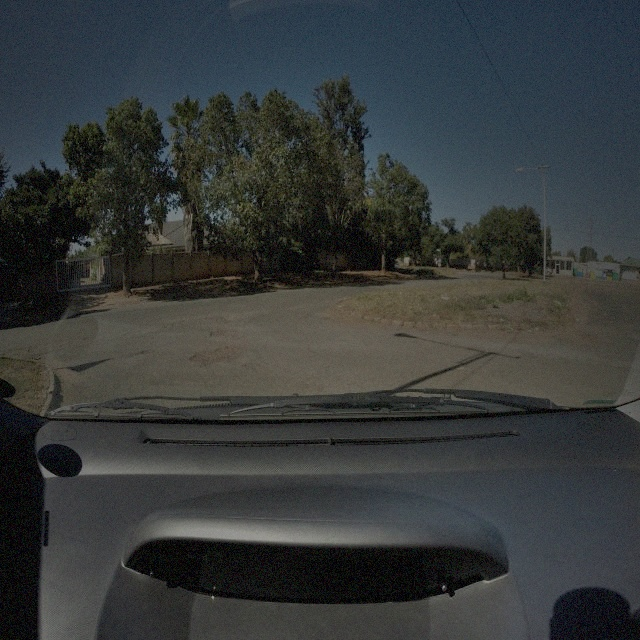pothole: (189, 338, 244, 368), (579, 331, 595, 344)
